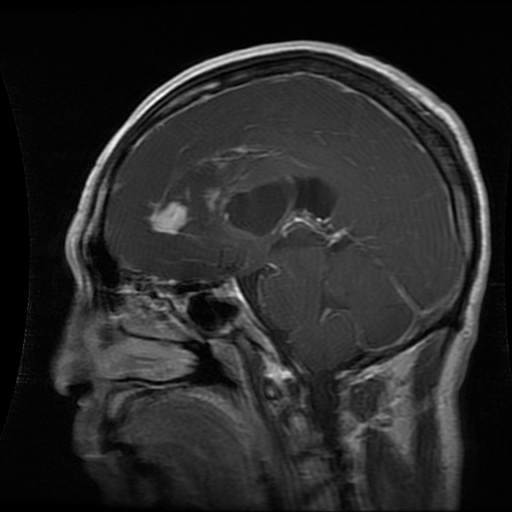glioma: (146, 160, 355, 254)
